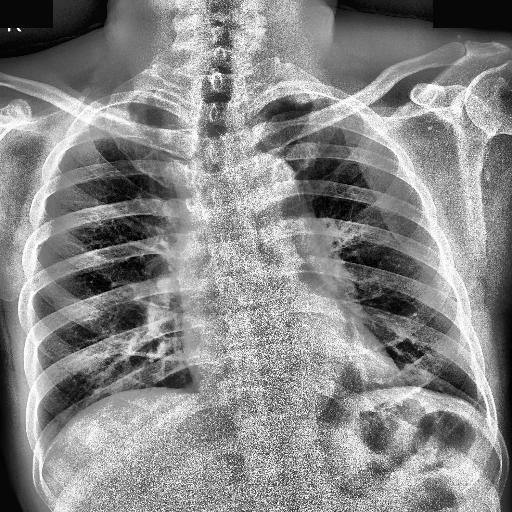0- Aortic enlargement: (212, 155, 308, 257), (216, 156, 300, 220), (238, 152, 312, 216)
11- Pleural thickening: (284, 88, 326, 108), (284, 93, 322, 108)
